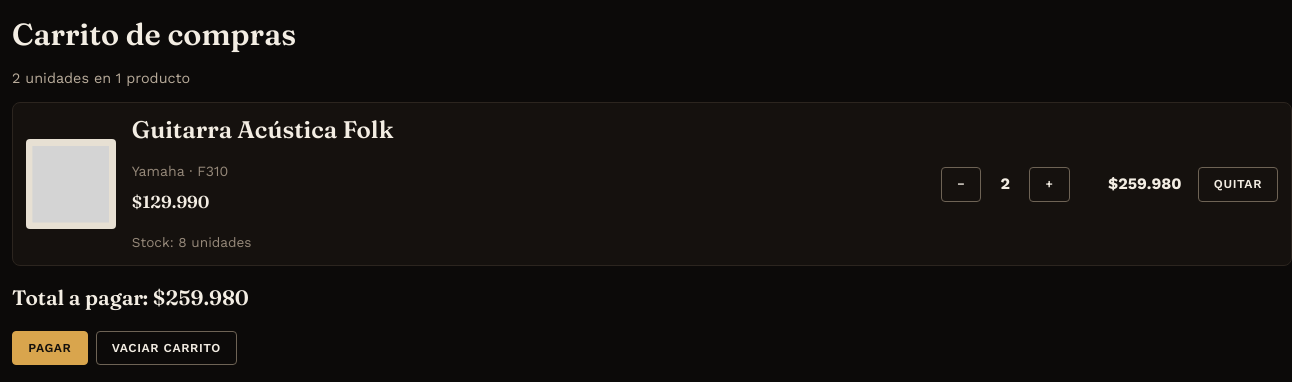
Test: Prueba 9: sin sesion el carrito no cobra, manda al login y deja las unidades
Click the button "Pagar": (50,348) [12,331,88,365]
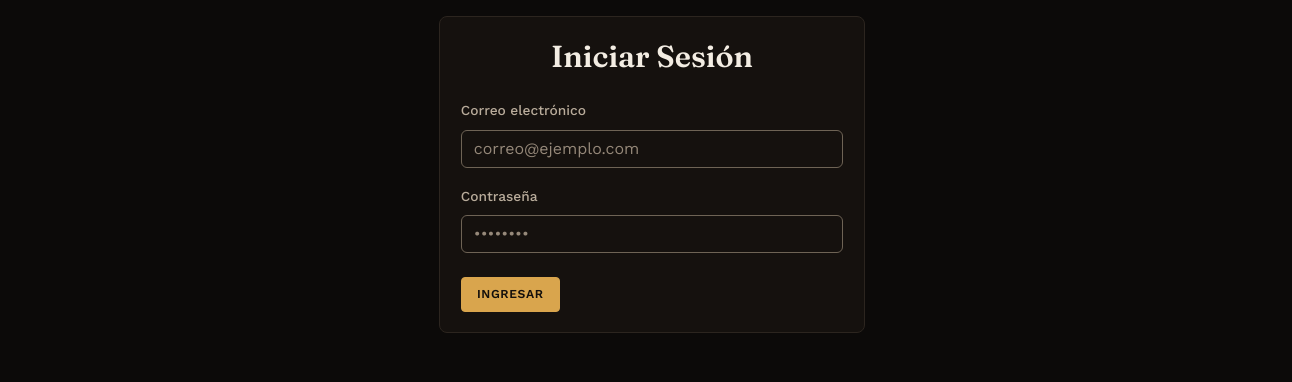
Expected: the heading reads "Iniciar Sesión", [551,37,753,75]
